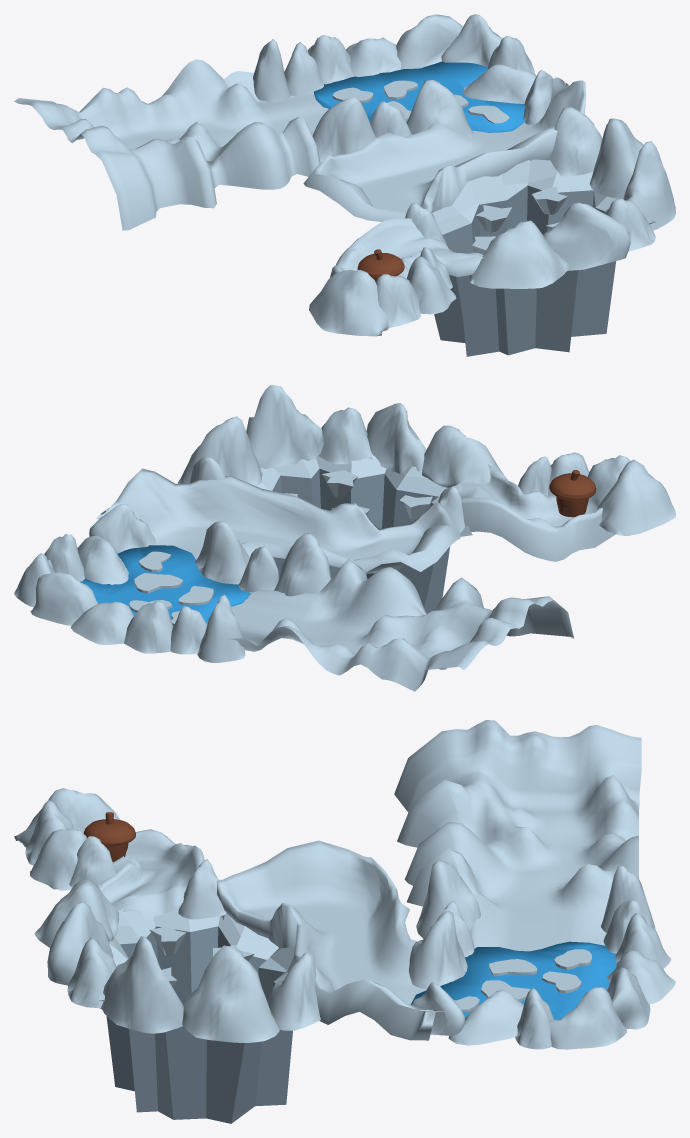
File: InvernoBlocagem 1.fbx
The picture shows the model from 3 angles, top to bottom: view 1: azimuth 30°, elevation 25°; view 2: azimuth 150°, elevation 25°; view 3: azimuth 270°, elevation 25°; orthographic projection. The views are drawn at different scales.
Parts seen in each view (by area): view 1: Circle, Circle.007, ArvoreBuraco.001, Circle.008, Circle.010; view 2: Circle, Circle.007, ArvoreBuraco.001, Circle.005, Circle.011, Circle.009, Circle.002, Circle.006; view 3: Circle, Circle.007, ArvoreBuraco.001, Circle.002, Circle.009, Circle.004.
Part boxes in pixels (x1,y1,x2,y2): Circle: (14,14,675,356); Circle.007: (314,61,525,132); ArvoreBuraco.001: (357,249,404,281); Circle.008: (532,186,567,214); Circle.010: (475,205,511,232); Circle: (14,385,675,691); Circle.007: (80,545,251,624); ArvoreBuraco.001: (549,470,596,517); Circle.005: (134,573,183,593); Circle.011: (321,470,358,498); Circle.009: (399,495,432,519); Circle.002: (178,586,213,605); Circle.006: (138,551,171,572); Circle: (14,720,675,1123); Circle.007: (411,941,616,1019); ArvoreBuraco.001: (83,812,135,861); Circle.002: (489,959,537,976); Circle.009: (150,926,186,956); Circle.004: (542,971,581,993).
Bounding box in the file's own units: 18658 × 6688 × 20169.
